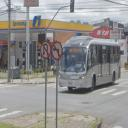NoVirarEsquerda: (52, 41, 63, 60)
NoVirarU: (40, 40, 51, 59)
